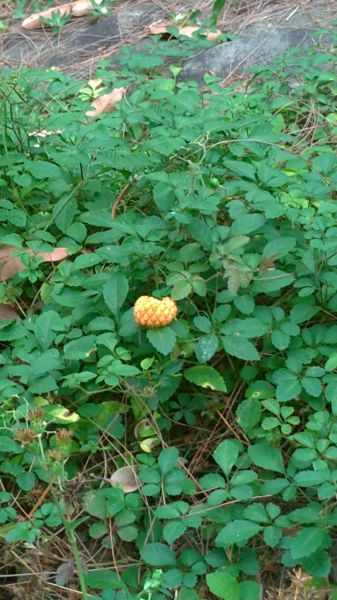eggs: (129, 293, 176, 328)
